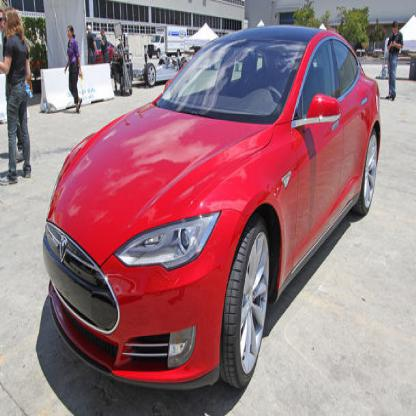Vehicle: (37, 19, 388, 403)
